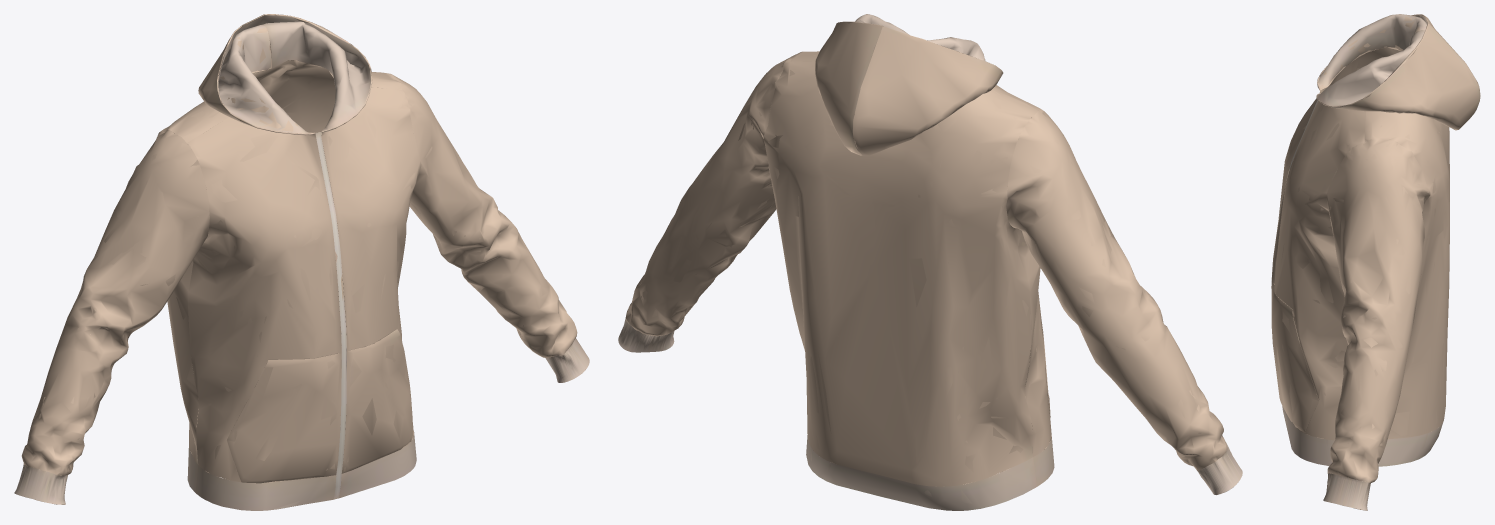
File: sudadera-zip-crema-lite.glb
The picture shows the model from 3 angles, left to right: view 1: azimuth 30°, elevation 25°; view 2: azimuth 150°, elevation 25°; view 3: azimuth 270°, elevation 25°; orthographic projection. The views are drawn at different scales.
Parts seen in each view (by area): view 1: Object_4; view 2: Object_4; view 3: Object_4.
Boxes of the visible parts, x1,y1,x2,y2 form: Object_4: (14, 14, 589, 510); Object_4: (618, 14, 1242, 510); Object_4: (1271, 14, 1480, 510).
Bounding box in the file's own units: 0.9892 × 0.7193 × 0.3366.
Materials: 1 (1 with a texture image).
